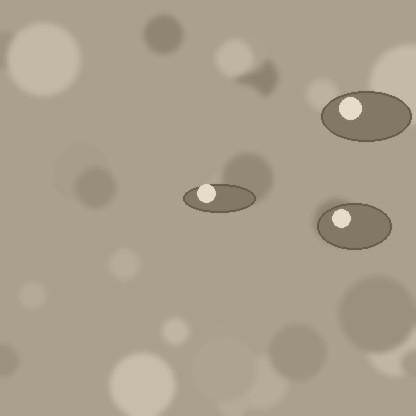gota: (321, 93, 411, 145), (317, 205, 391, 253), (183, 185, 255, 215)
